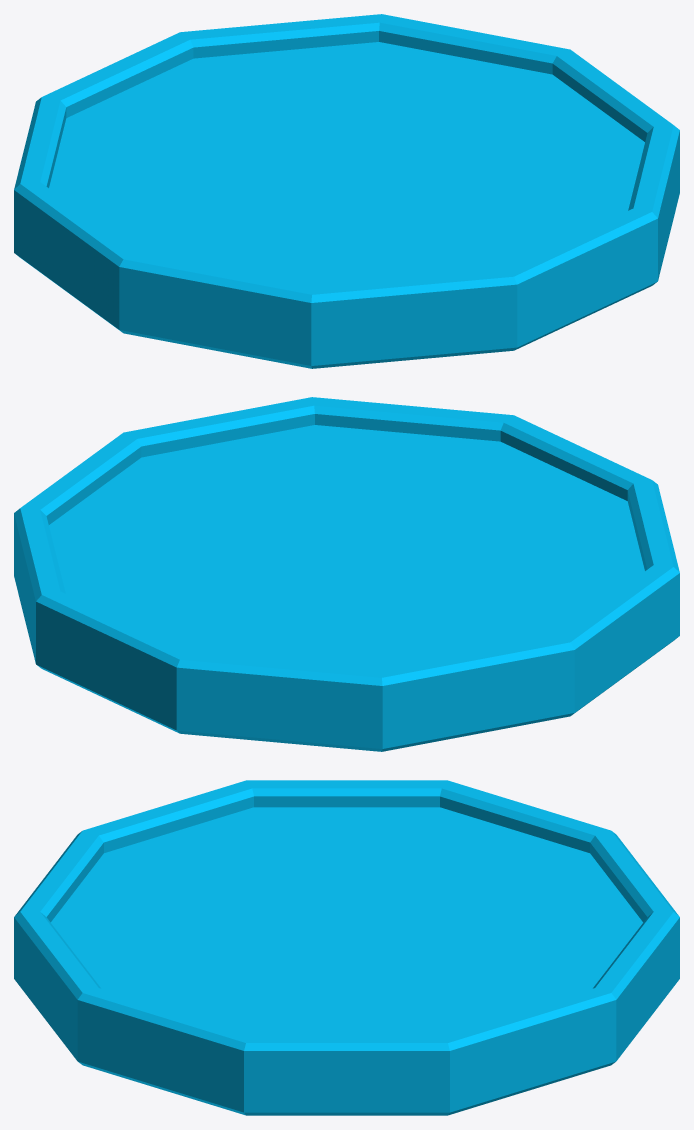
File: Simple_Coin.glb
3 renders of one model, top to bottom at view 1: azimuth 30°, elevation 25°; view 2: azimuth 150°, elevation 25°; view 3: azimuth 270°, elevation 25°, orthographic. The views are drawn at different scales.
Visible parts, largest first — view 1: coin; view 2: coin; view 3: coin.
Boxes of the visible parts, x1=… form: coin: x1=14, y1=14, x2=679, y2=368; coin: x1=14, y1=397, x2=679, y2=751; coin: x1=14, y1=780, x2=679, y2=1115.
Size of the model in its own units: 0.4755 by 0.06 by 0.5.
